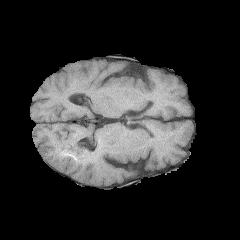glioma: (57, 142, 96, 166)
